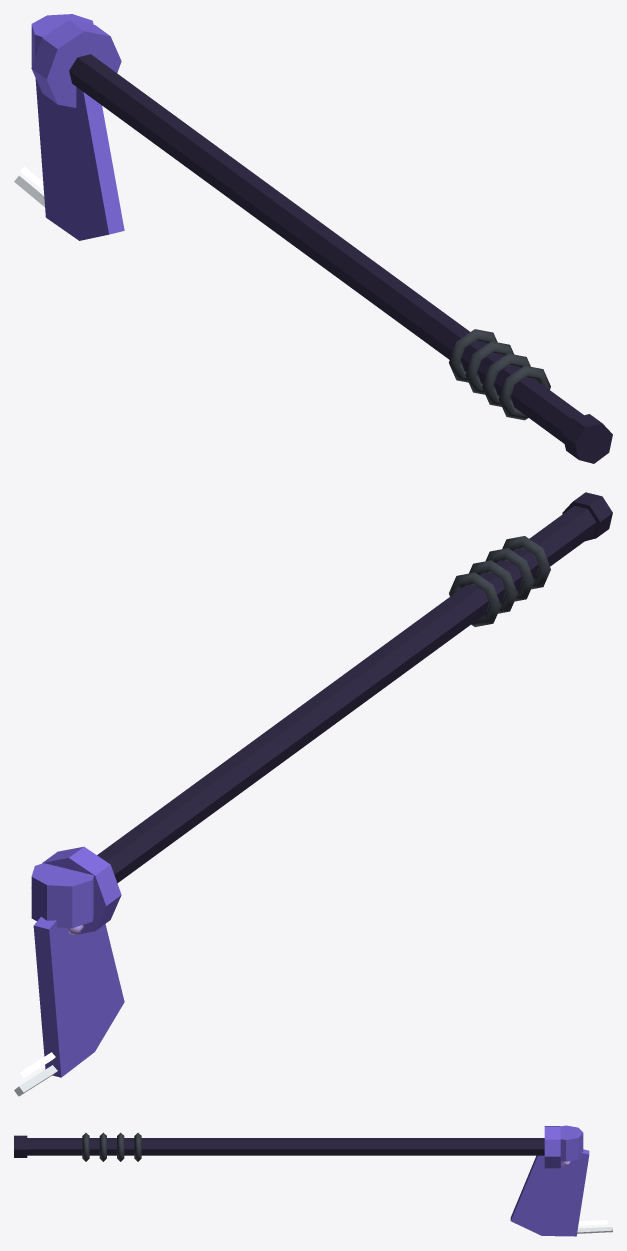
The model's file is Tool_Hoe_Starlight.fbx.
The picture shows the model from 3 angles, top to bottom: view 1: azimuth 30°, elevation 25°; view 2: azimuth 150°, elevation 25°; view 3: azimuth 270°, elevation 25°; orthographic projection. The views are drawn at different scales.
Parts seen in each view (by area): view 1: Tool_Hoe_Starlight; view 2: Tool_Hoe_Starlight; view 3: Tool_Hoe_Starlight.
Part boxes in pixels (x1=…): Tool_Hoe_Starlight: x1=14, y1=14, x2=612, y2=463; Tool_Hoe_Starlight: x1=14, y1=492, x2=612, y2=1096; Tool_Hoe_Starlight: x1=14, y1=1125, x2=612, y2=1236.
Size of the model in its own units: 0.0338 by 0.0891 by 0.4491.
